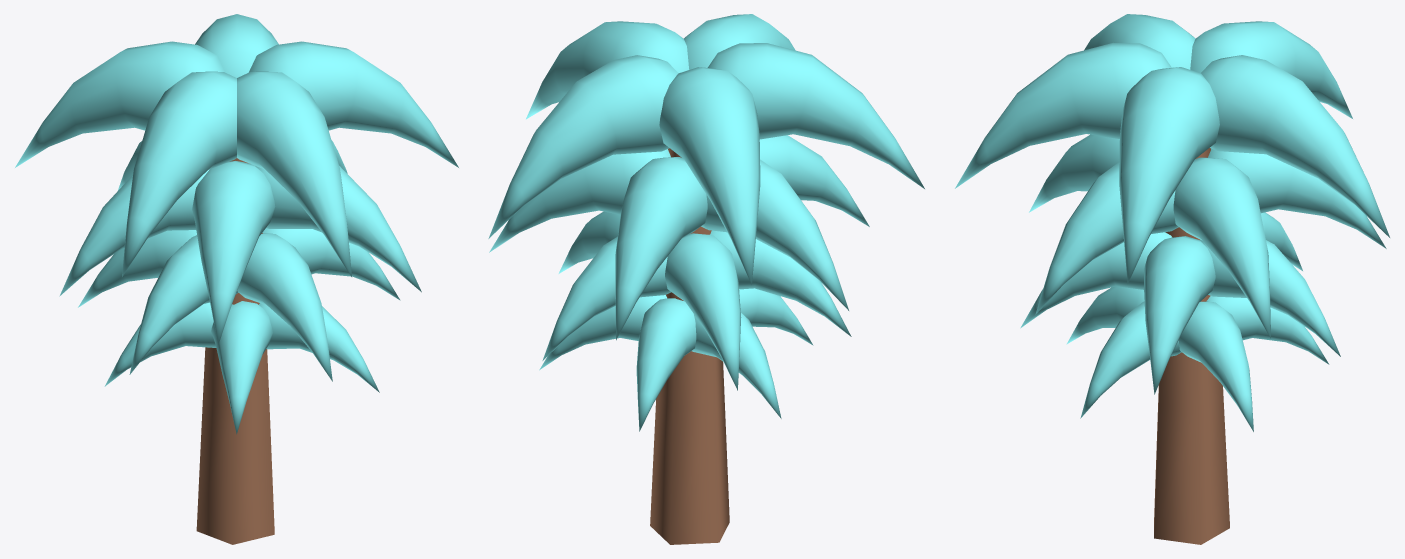
The model's file is Tree_2.fbx.
3 views of the same model, side by side, from view 1: azimuth 30°, elevation 25°; view 2: azimuth 150°, elevation 25°; view 3: azimuth 270°, elevation 25° (orthographic).
Visible parts, largest first — view 1: Tree5_Tree6_group32_pCone19, Tree5_Tree6_group33_pCone19, Tree5_Tree6_group34_pCone19, polySurface148, Tree5_Tree6_group35_pCone19, polySurface147; view 2: Tree5_Tree6_group32_pCone19, Tree5_Tree6_group33_pCone19, Tree5_Tree6_group34_pCone19, Tree5_Tree6_group35_pCone19, polySurface148, polySurface147; view 3: Tree5_Tree6_group32_pCone19, Tree5_Tree6_group33_pCone19, Tree5_Tree6_group34_pCone19, Tree5_Tree6_group35_pCone19, polySurface148, polySurface147.
Part boxes in pixels (x1,y1,x2,y2): Tree5_Tree6_group32_pCone19: (15, 14, 458, 276); Tree5_Tree6_group33_pCone19: (59, 140, 421, 344); Tree5_Tree6_group34_pCone19: (78, 228, 400, 381); polySurface148: (196, 400, 274, 544); Tree5_Tree6_group35_pCone19: (104, 301, 379, 434); polySurface147: (203, 298, 269, 410); Tree5_Tree6_group32_pCone19: (488, 14, 924, 284); Tree5_Tree6_group33_pCone19: (489, 135, 869, 340); Tree5_Tree6_group34_pCone19: (542, 211, 851, 390); Tree5_Tree6_group35_pCone19: (539, 288, 813, 431); polySurface148: (650, 390, 729, 544); polySurface147: (658, 292, 724, 409); Tree5_Tree6_group32_pCone19: (955, 14, 1389, 283); Tree5_Tree6_group33_pCone19: (1029, 134, 1386, 338); Tree5_Tree6_group34_pCone19: (1020, 212, 1340, 394); Tree5_Tree6_group35_pCone19: (1066, 286, 1329, 431); polySurface148: (1154, 393, 1229, 544); polySurface147: (1158, 295, 1223, 409).
Bounding box in the file's own units: 20.75 × 25.7 × 21.14.
